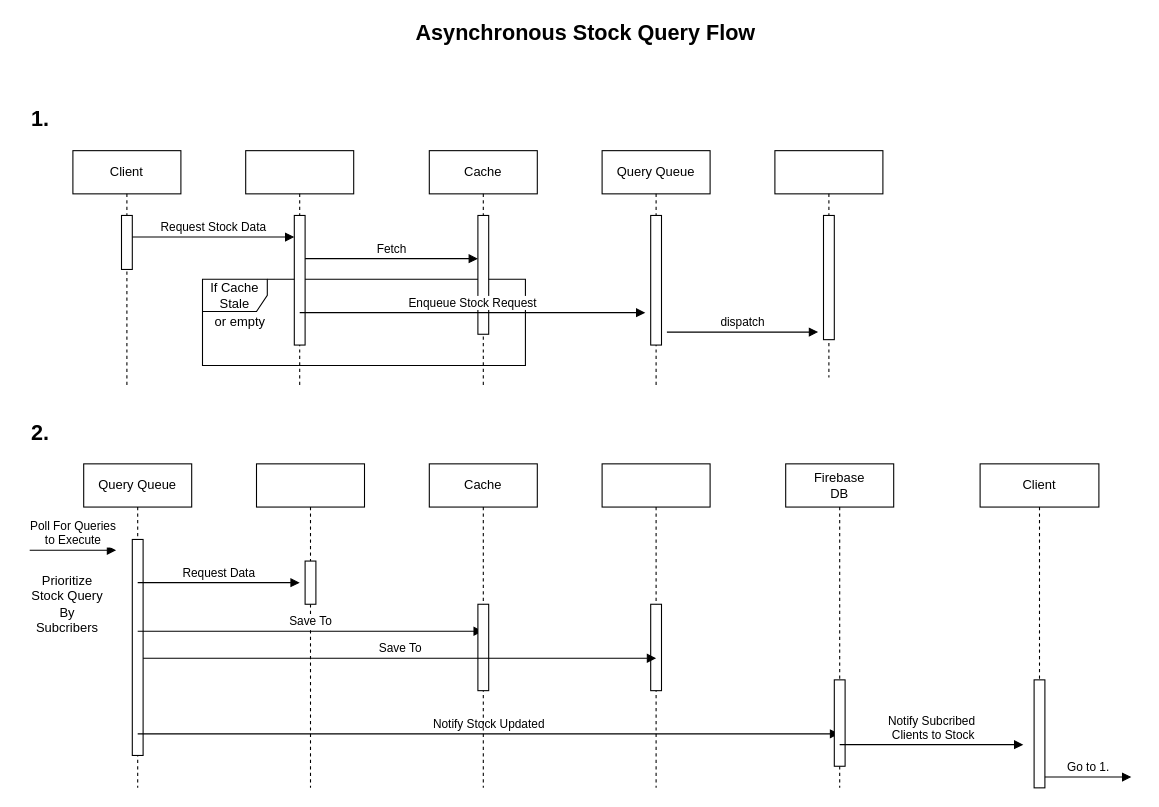
This 1159x807 diagram has some shape labels left out. The shapes that lost their labels are listed below. From the top down, each one's box as (x1, y1, x2, y2) in pixels, then its label:
(245, 150, 354, 388): Web API
(774, 150, 883, 377): Stock Subscriptions
(255, 463, 364, 788): 3rd Party Stock API
(601, 463, 710, 788): DB
